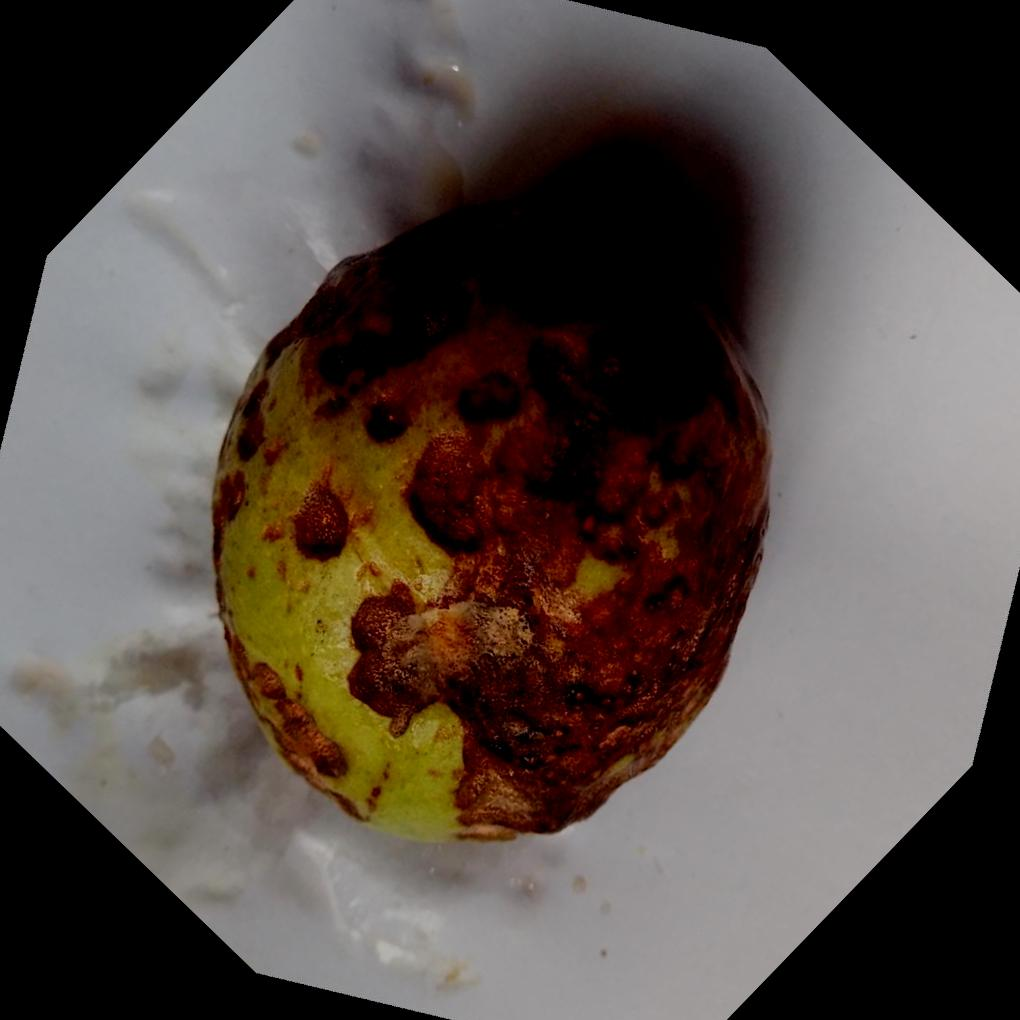FreshOrange: (206, 195, 772, 848)
